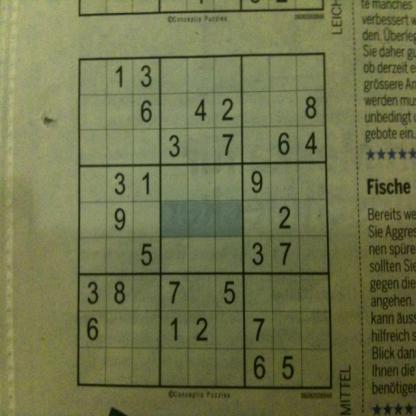sudoku: (73, 48, 335, 392)
